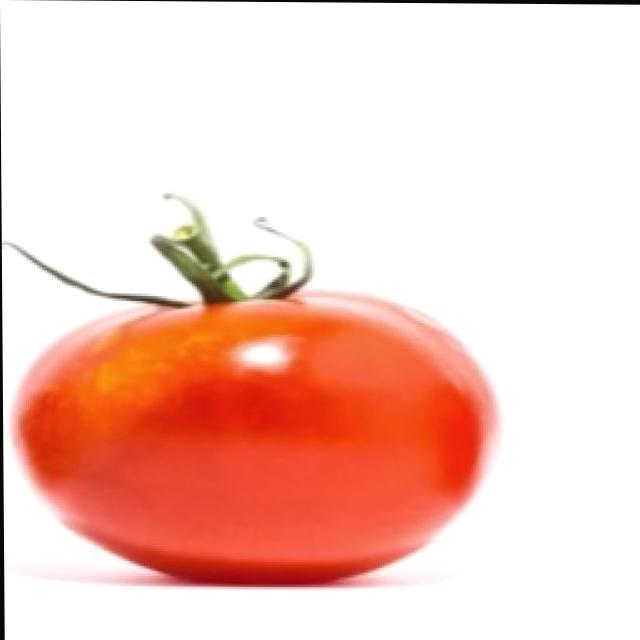tomato: (13, 287, 497, 590)
